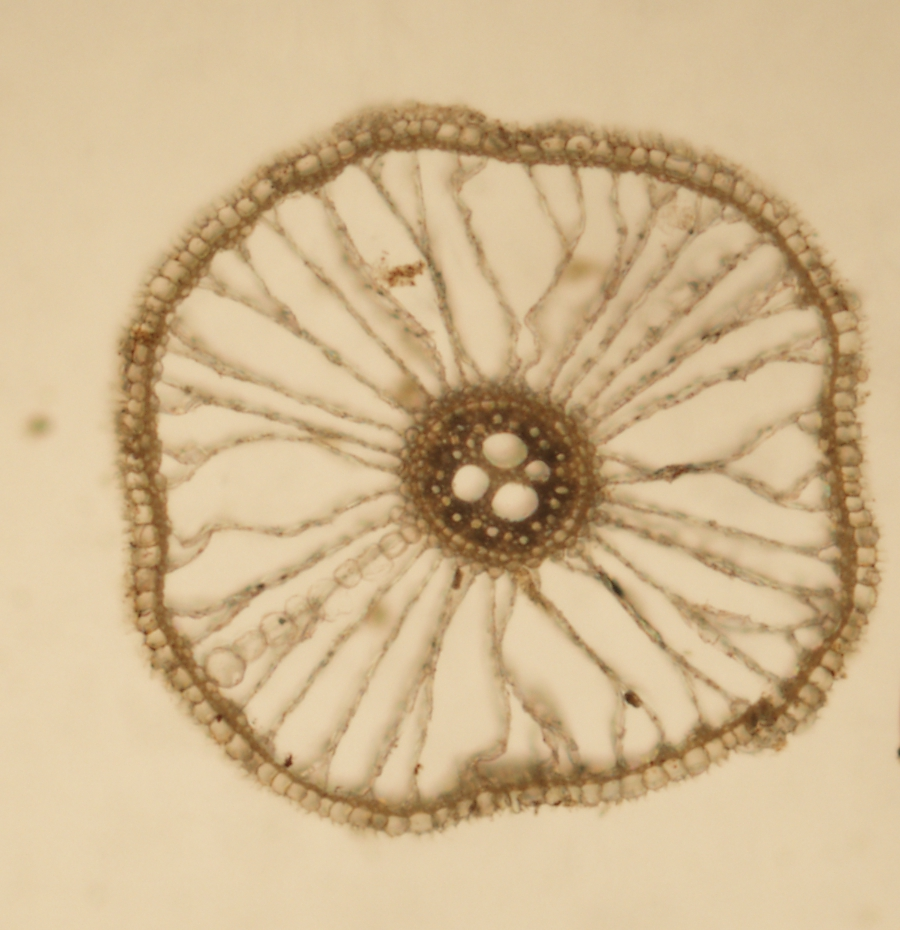lm: (491, 481, 539, 521), (482, 432, 528, 468), (451, 463, 490, 502), (524, 460, 550, 482)
